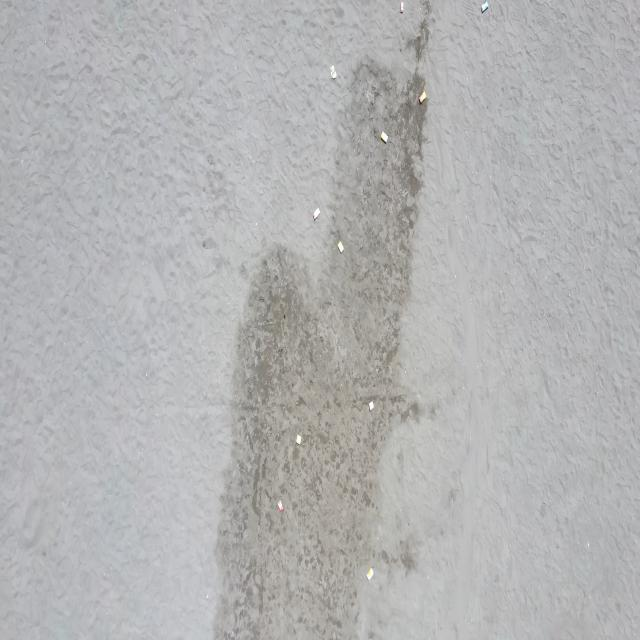Garbage: (420, 89, 427, 103), (312, 207, 319, 220), (480, 0, 487, 12), (329, 64, 335, 77), (276, 500, 283, 511), (336, 240, 342, 252), (380, 131, 387, 141), (367, 568, 372, 580), (296, 433, 300, 444), (368, 400, 372, 409), (400, 0, 403, 12)
